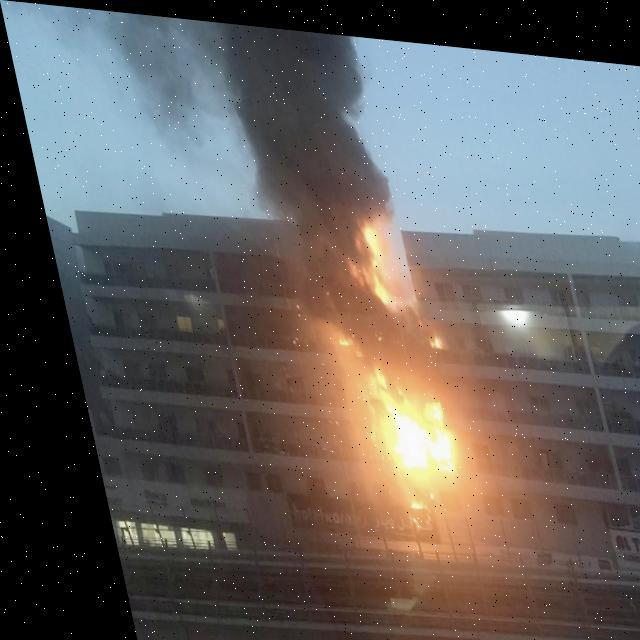Fire: (316, 218, 450, 476)
